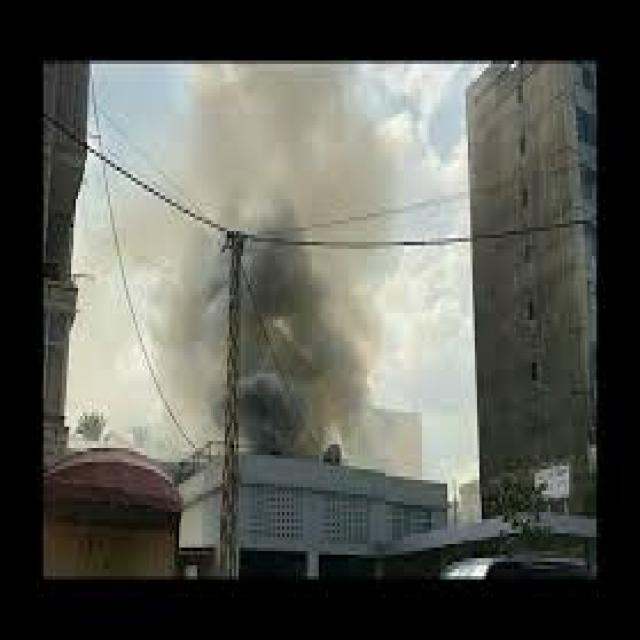Smoke: (109, 97, 223, 422), (219, 67, 389, 231), (247, 205, 357, 458)
